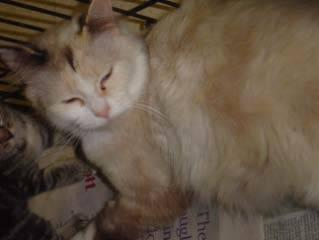cat: (2, 0, 318, 239)
